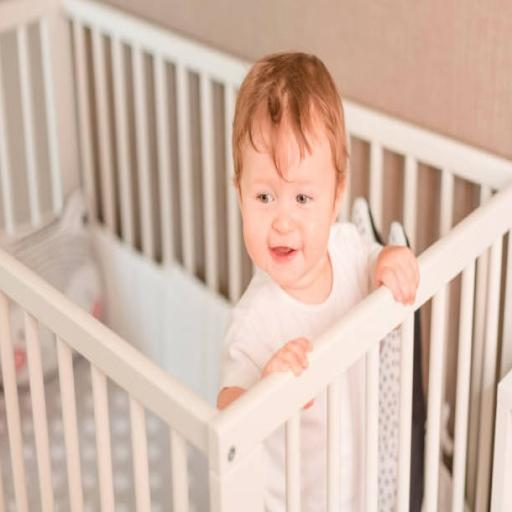baby: (218, 52, 418, 408)
crib: (0, 0, 511, 510)
